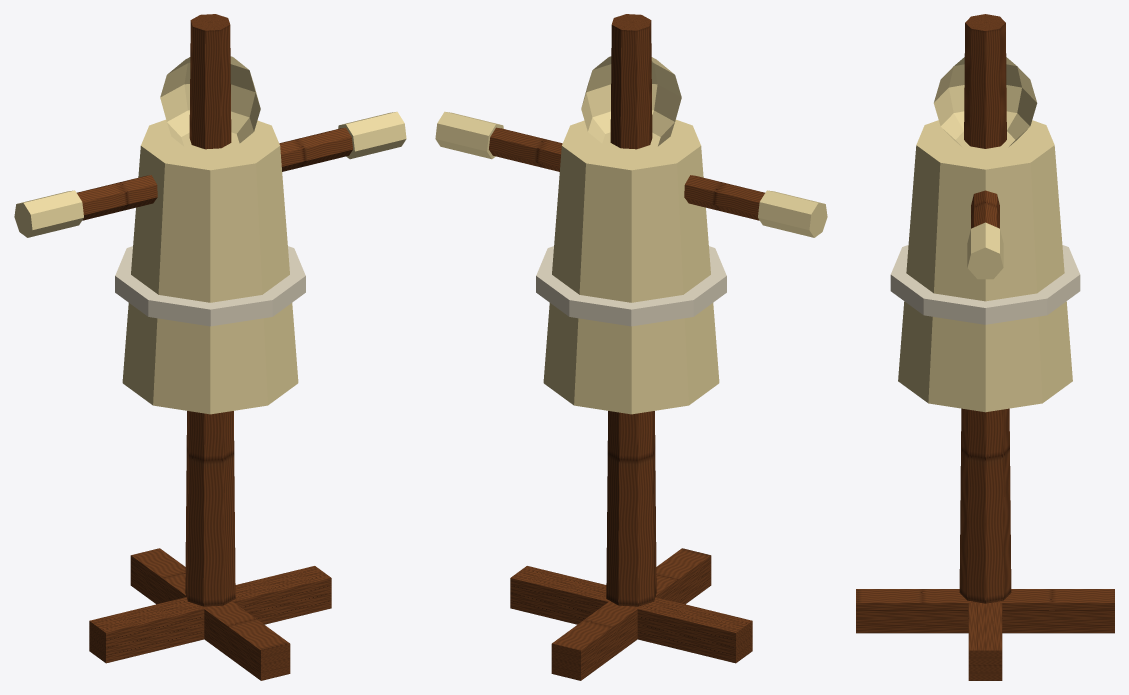
The model's file is legendary-warriors-kit-straw-training-dummy-fbe78d81__39218.glb.
3 renders of one model, left to right at view 1: azimuth 30°, elevation 25°; view 2: azimuth 150°, elevation 25°; view 3: azimuth 270°, elevation 25°, orthographic.
Parts seen in each view (by area): view 1: straw-training-dummy; view 2: straw-training-dummy; view 3: straw-training-dummy.
Boxes of the visible parts, x1=… form: straw-training-dummy: x1=14, y1=14, x2=406, y2=680; straw-training-dummy: x1=435, y1=14, x2=827, y2=680; straw-training-dummy: x1=856, y1=14, x2=1114, y2=680.
Size of the model in its own units: 1.16 by 1.8 by 0.6999.
3 materials, 1 textured.
